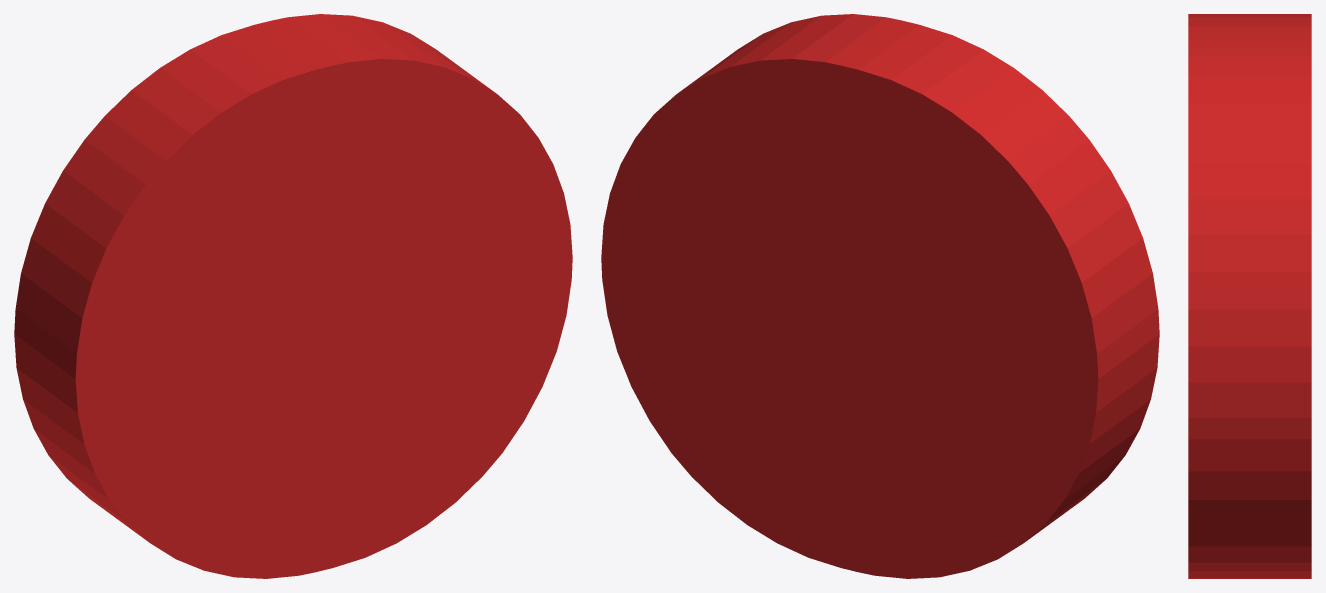
The model's file is converted_link2_17_d12626ff.obj.
3 views of the same model, side by side, from view 1: azimuth 30°, elevation 25°; view 2: azimuth 150°, elevation 25°; view 3: azimuth 270°, elevation 25° (orthographic).
Size of the model in its own units: 0.000468 by 0.000452 by 0.0001.
